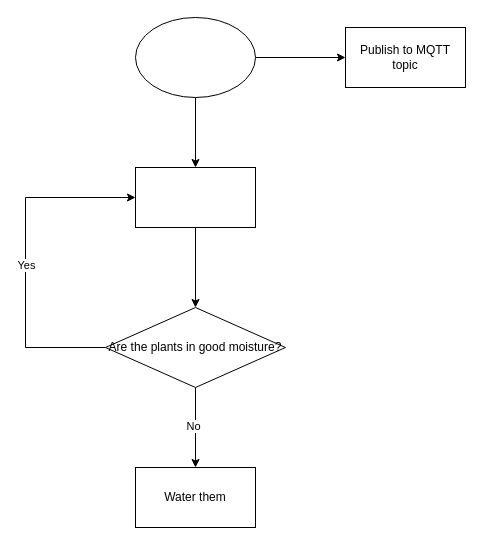
This 483x545 diagram has some shape labels left out. Here are the shapes that lost their labels. From the top down, the centre of each, then its label:
point 195,57: Start
point 195,197: Check the moisture level
